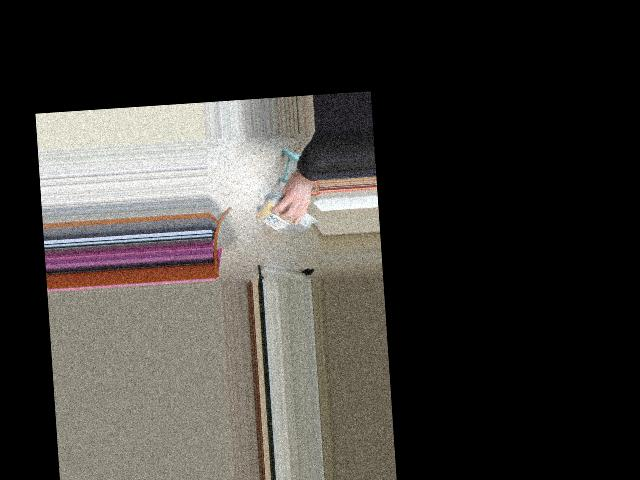cheese: (249, 199, 314, 231)
